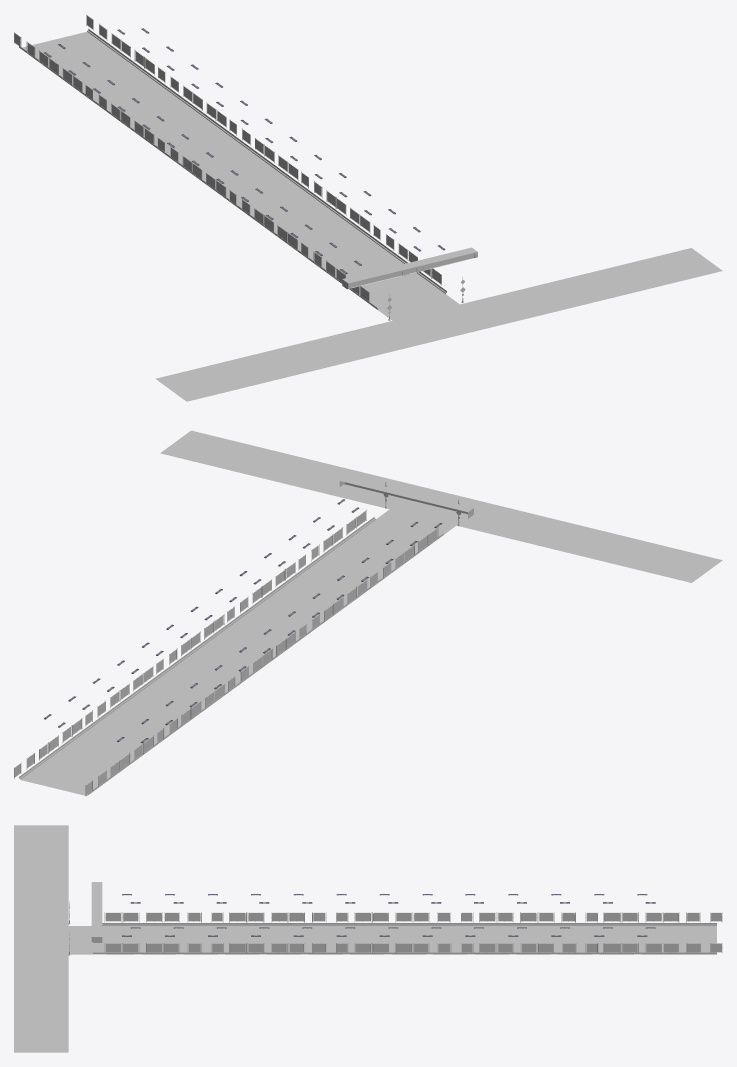
The picture shows the model from 3 angles, top to bottom: view 1: azimuth 30°, elevation 25°; view 2: azimuth 150°, elevation 25°; view 3: azimuth 270°, elevation 25°; orthographic projection. The views are drawn at different scales.
Visible parts, largest first — view 1: polySurface73, main_road, pasted__Start_Border, polySurface2760, polySurface2758, polySurface2756, polySurface2750, polySurface2757, Light:pasted__light_a_LP18, Fence:polySurface2750; view 2: polySurface73, main_road, polySurface2760, polySurface2757, polySurface2758, Fence:polySurface2750, polySurface2756, polySurface2750, pasted__Start_Border, Light:pasted__light_a_LP18; view 3: polySurface73, main_road, polySurface2758, polySurface2750, polySurface2757, Fence:polySurface2750, polySurface2756, Light:pasted__light_a_LP18, polySurface2760, pasted__Start_Border.
Boxes of the visible parts, bbox=[...] form: polySurface73: bbox=[48, 49, 459, 320]; main_road: bbox=[155, 248, 722, 401]; pasted__Start_Border: bbox=[342, 247, 477, 289]; polySurface2760: bbox=[22, 32, 110, 63]; polySurface2758: bbox=[14, 14, 154, 93]; polySurface2756: bbox=[157, 119, 298, 198]; polySurface2750: bbox=[229, 171, 370, 250]; polySurface2757: bbox=[85, 67, 226, 145]; Light:pasted__light_a_LP18: bbox=[44, 28, 445, 274]; Fence:polySurface2750: bbox=[301, 224, 441, 303]; polySurface73: bbox=[44, 509, 455, 778]; main_road: bbox=[160, 430, 722, 582]; polySurface2760: bbox=[20, 763, 108, 795]; polySurface2757: bbox=[85, 666, 224, 743]; polySurface2758: bbox=[14, 718, 153, 795]; Fence:polySurface2750: bbox=[298, 509, 438, 587]; polySurface2756: bbox=[156, 614, 295, 691]; polySurface2750: bbox=[227, 562, 367, 640]; pasted__Start_Border: bbox=[339, 476, 473, 518]; Light:pasted__light_a_LP18: bbox=[44, 499, 442, 743]; polySurface73: bbox=[68, 926, 675, 954]; main_road: bbox=[14, 825, 68, 1052]; polySurface2758: bbox=[603, 912, 722, 953]; polySurface2750: bbox=[229, 912, 348, 953]; polySurface2757: bbox=[479, 912, 598, 953]; Fence:polySurface2750: bbox=[104, 912, 223, 953]; polySurface2756: bbox=[354, 912, 473, 953]; Light:pasted__light_a_LP18: bbox=[122, 894, 655, 936]; polySurface2760: bbox=[675, 926, 716, 954]; pasted__Start_Border: bbox=[91, 882, 102, 942].
Size of the model in its own units: 8608 by 540 by 11332.
